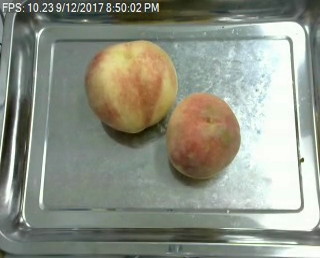Peach: (85, 39, 177, 134), (165, 91, 241, 178)
